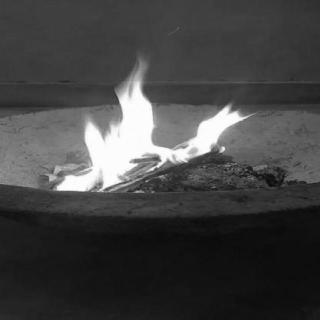Fire: (41, 46, 261, 200)
